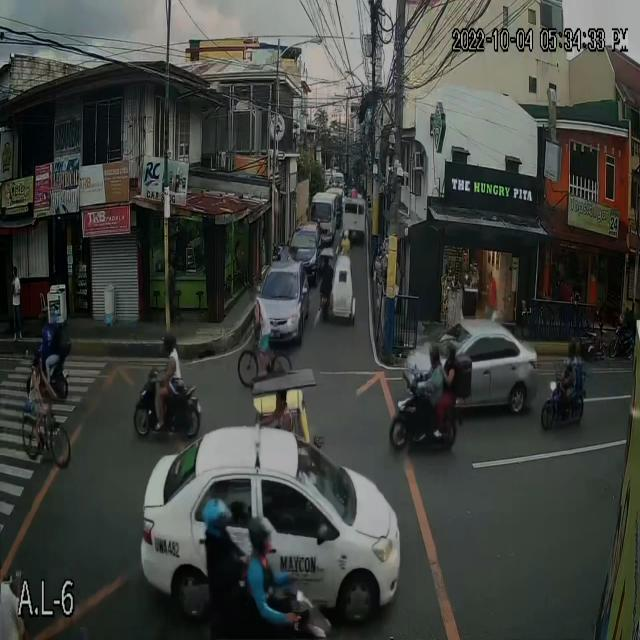Full-Faced: (198, 496, 231, 539), (248, 507, 276, 550), (159, 324, 181, 359), (425, 340, 443, 370), (564, 338, 580, 359), (36, 306, 50, 328), (344, 225, 352, 246)
Half-Faced: (444, 336, 458, 362)
